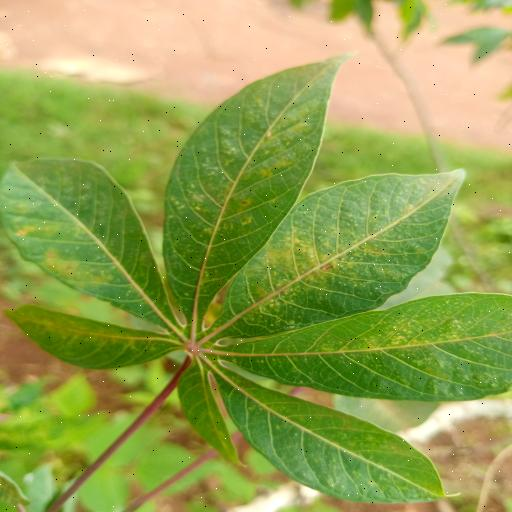Cassava_Mosaic: (0, 50, 512, 504)
